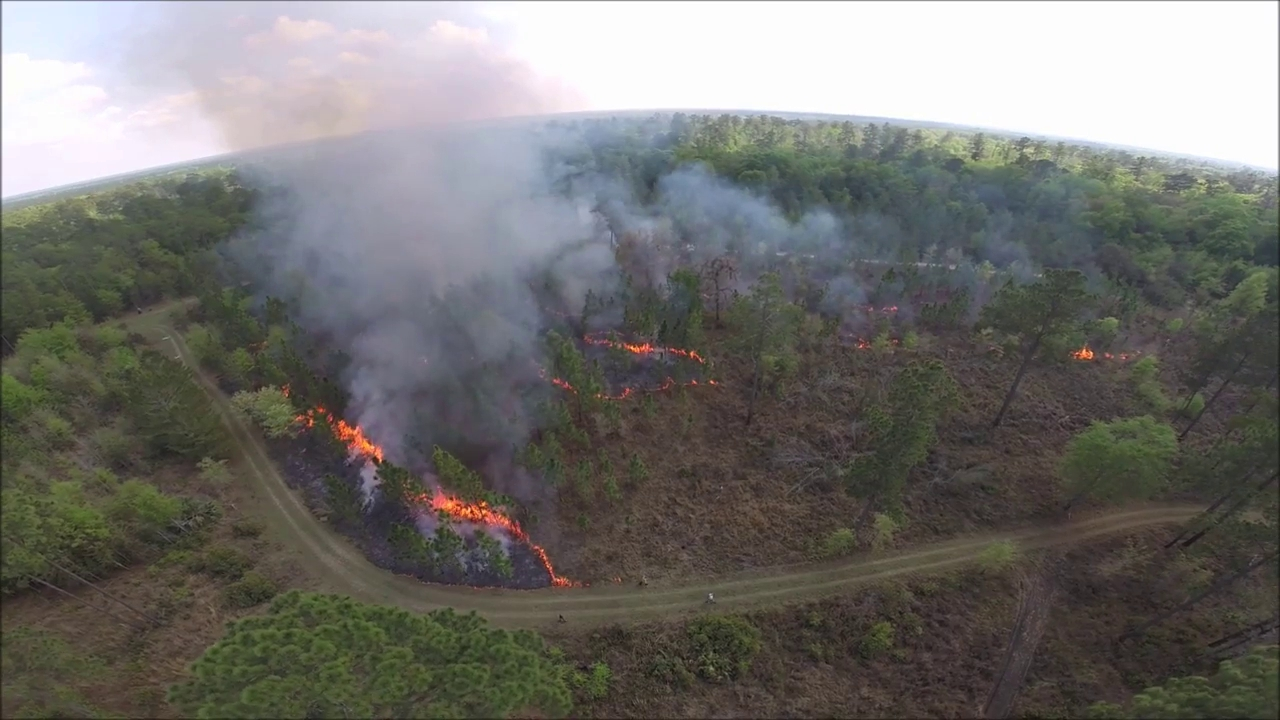forest_fire: (406, 489, 584, 586), (296, 407, 383, 465), (583, 335, 705, 364), (1069, 345, 1140, 361), (540, 370, 576, 391), (595, 387, 638, 399), (651, 378, 678, 389), (854, 339, 871, 348), (685, 379, 718, 383), (280, 385, 287, 396)
